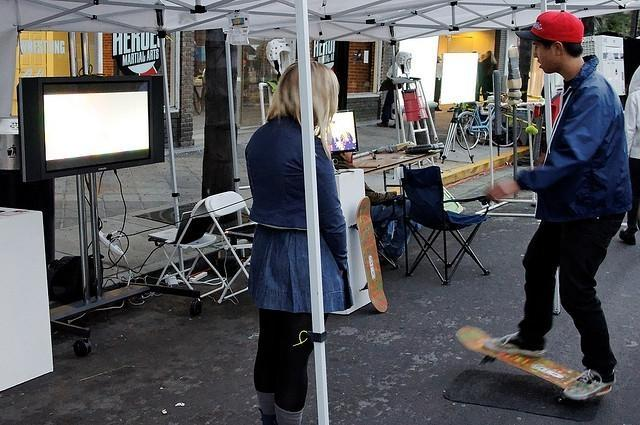bicycle: (452, 104, 524, 149)
